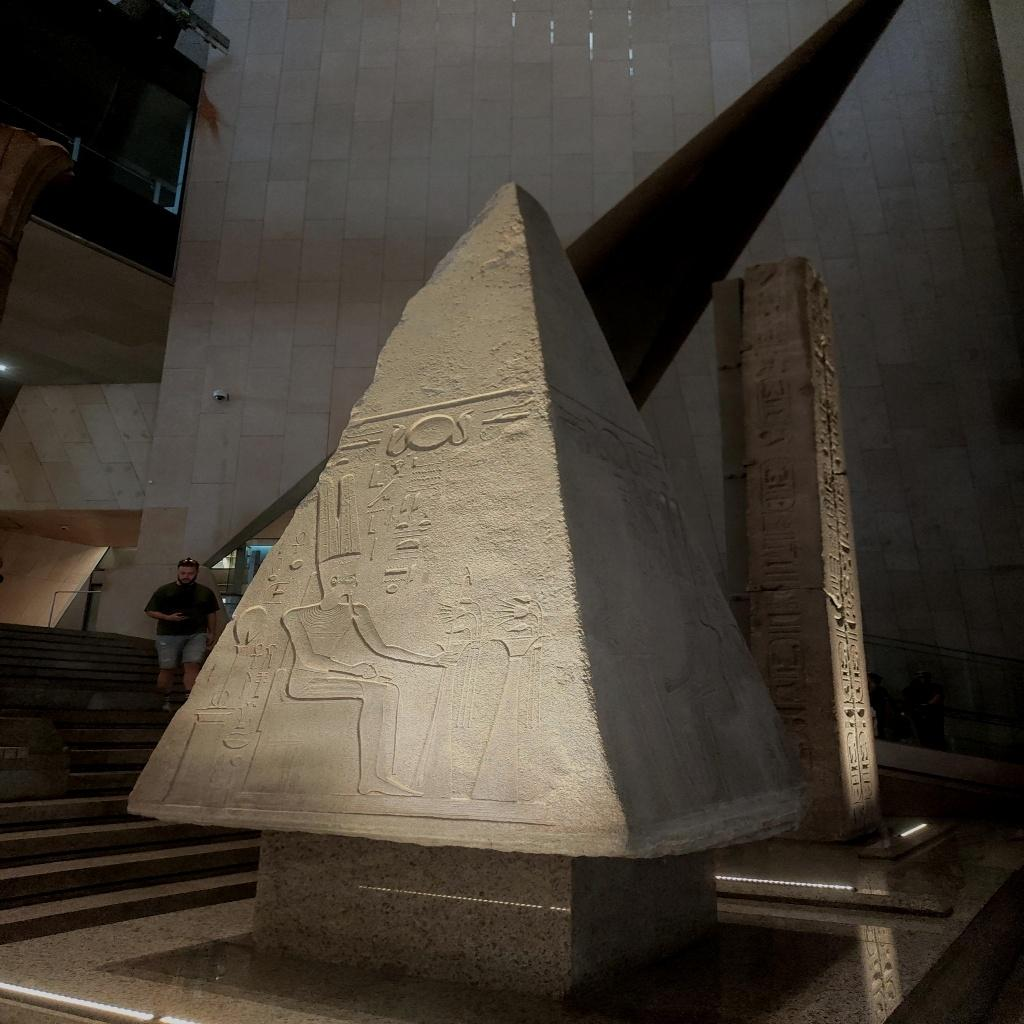Obelsik Tip of Hatshepsut: (124, 179, 815, 861)
